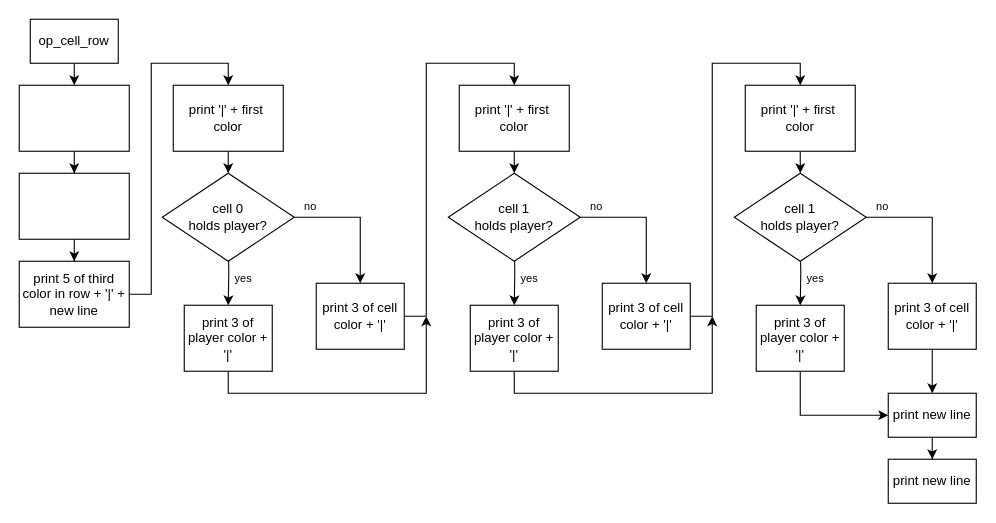
Some shapes in this 996 by 523 pixel diagram are drawn without their labels. The shapes that lost their labels are listed below. From the top down, each one's centre as x and y in pixels, then its label:
At point 73,117: "print 5 of first color in row + '|'".
At point 73,205: "print 5 of second color in row + '|'".
